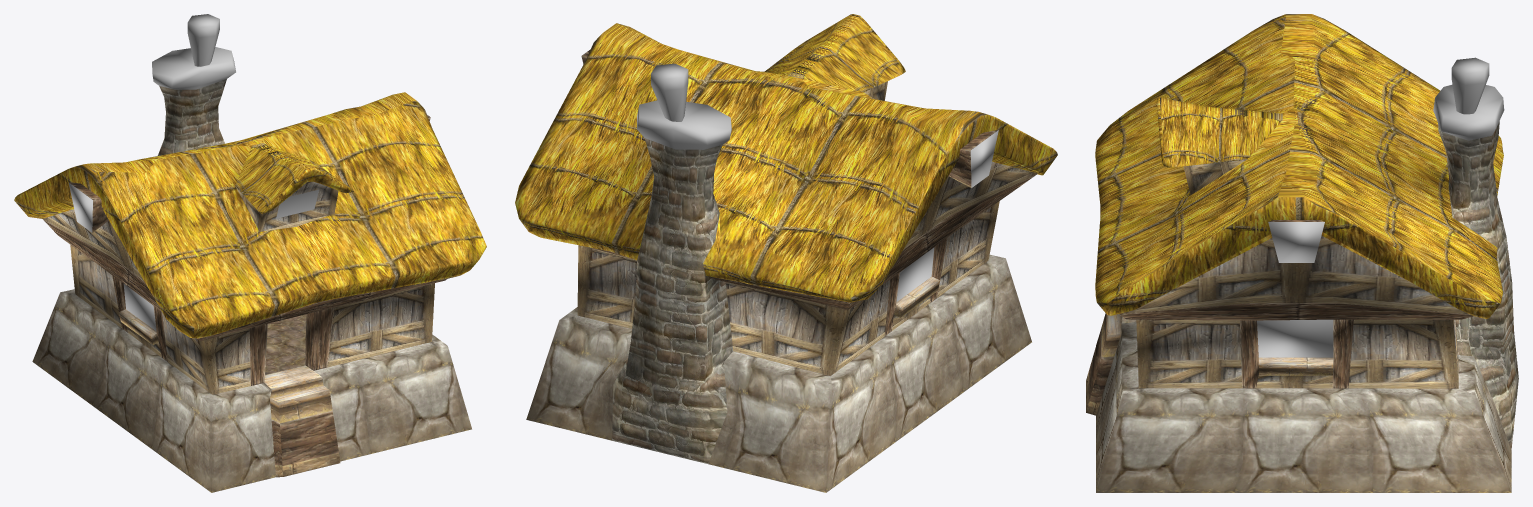
The model's file is moonbrook_human_farm_set1.obj.
3 views of the same model, side by side, from view 1: azimuth 30°, elevation 25°; view 2: azimuth 150°, elevation 25°; view 3: azimuth 270°, elevation 25° (orthographic). The views are drawn at different scales.
Parts seen in each view (by area): view 1: exterior2, exterior3, exterior6, exterior5, exterior1, exterior0, interior1, exterior7, exterior4; view 2: exterior2, exterior3, exterior0, exterior6, exterior5, exterior1, exterior7, exterior4; view 3: exterior2, exterior3, exterior6, exterior5, exterior0, exterior1, exterior7, exterior4.
Boxes of the visible parts, x1,y1,x2,y2 form: exterior2: [14, 92, 486, 338]; exterior3: [32, 289, 471, 492]; exterior6: [43, 181, 434, 394]; exterior5: [43, 115, 446, 477]; exterior1: [152, 14, 235, 89]; exterior0: [157, 79, 226, 155]; interior1: [265, 314, 306, 374]; exterior7: [123, 189, 318, 331]; exterior4: [68, 182, 92, 232]; exterior2: [515, 14, 1057, 302]; exterior3: [526, 254, 1031, 492]; exterior0: [612, 138, 732, 463]; exterior6: [577, 81, 1037, 375]; exterior5: [581, 49, 1036, 335]; exterior1: [637, 63, 731, 149]; exterior7: [896, 247, 934, 302]; exterior4: [970, 130, 998, 187]; exterior2: [1095, 14, 1503, 319]; exterior3: [1096, 322, 1511, 492]; exterior6: [1120, 159, 1468, 388]; exterior5: [1086, 220, 1473, 415]; exterior0: [1438, 121, 1518, 450]; exterior1: [1433, 57, 1504, 140]; exterior7: [1257, 319, 1333, 357]; exterior4: [1268, 222, 1324, 262].
Bounding box in the file's own units: 19.28 × 17.23 × 18.43.
